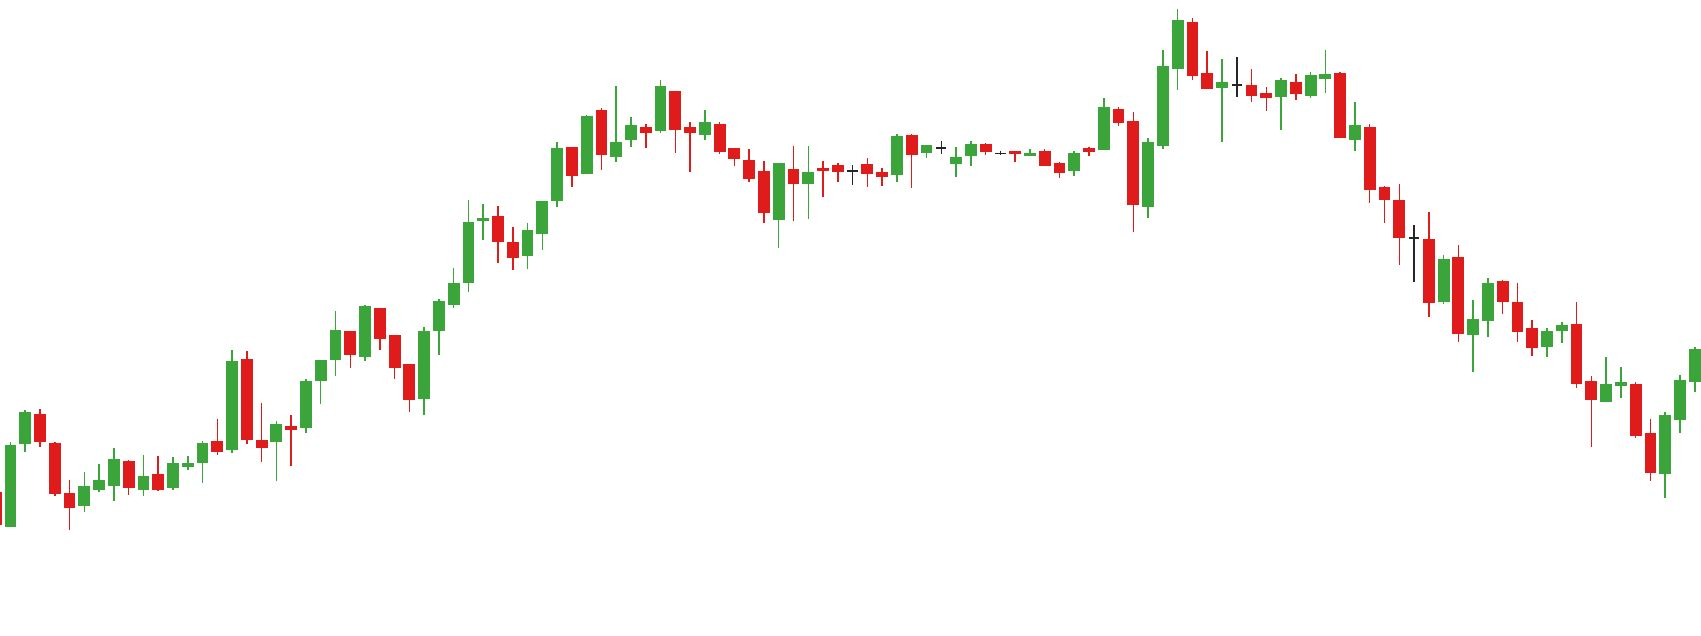buy: (1056, 135, 1156, 236)
